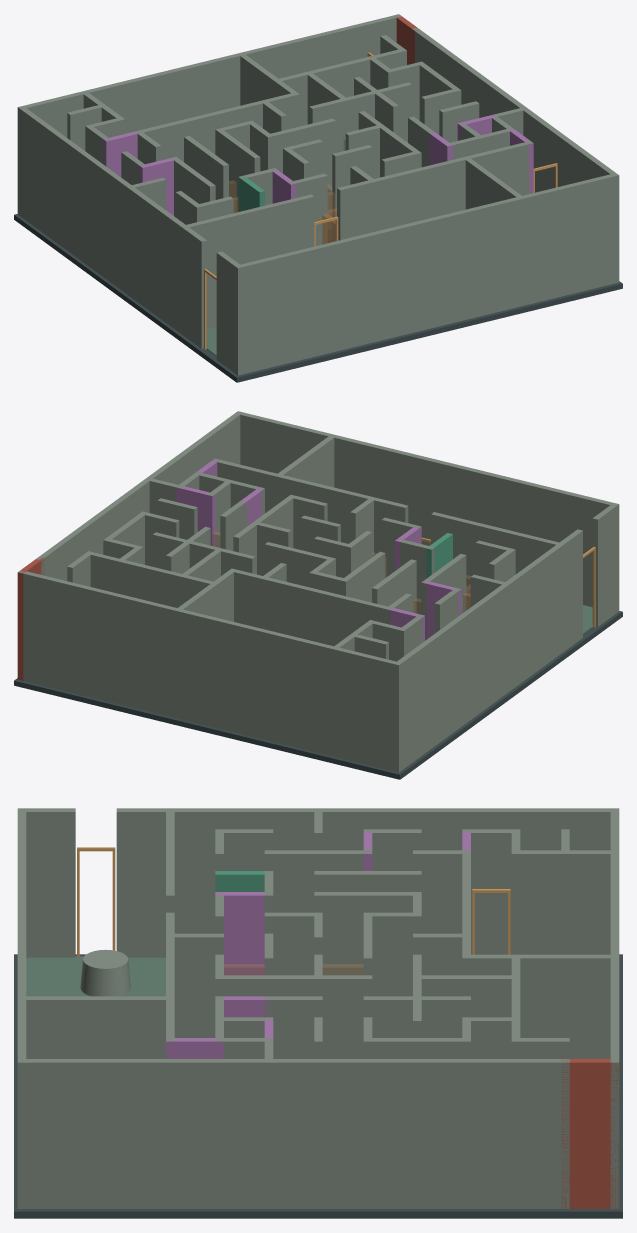
The model's file is Quy-Mu-REV-P-S0.glb.
The picture shows the model from 3 angles, top to bottom: view 1: azimuth 30°, elevation 25°; view 2: azimuth 150°, elevation 25°; view 3: azimuth 270°, elevation 25°; orthographic projection. The views are drawn at different scales.
Visible parts, largest first — view 1: object 24, object 25, object 1, object 23, object 50, object 22, object 59, object 5, object 8, object 4, object 26, object 44 (+38 smaller); view 2: object 1, object 25, object 24, object 5, object 50, object 59, object 23, object 4, object 22, object 26, object 39, object 8 (+39 smaller); view 3: object 50, object 25, object 30, object 39, object 44, object 59, object 26, C06, object 41, object 27, object 34, object 38 (+33 smaller).
Boxes of the visible parts, left/top/right/bottom form: object 24: left=234, top=174, right=619, bottom=375; object 25: left=17, top=106, right=207, bottom=348; object 1: left=17, top=14, right=401, bottom=216; object 23: left=337, top=141, right=533, bottom=240; object 50: left=412, top=27, right=619, bottom=283; object 22: left=180, top=194, right=314, bottom=335; object 59: left=14, top=214, right=622, bottom=382; object 5: left=135, top=92, right=299, bottom=161; object 8: left=309, top=82, right=411, bottom=152; object 4: left=273, top=48, right=406, bottom=126; object 26: left=216, top=251, right=243, bottom=374; object 44: left=465, top=156, right=525, bottom=306; object 1: left=18, top=570, right=402, bottom=772; object 25: left=393, top=529, right=582, bottom=771; object 24: left=235, top=411, right=619, bottom=611; object 5: left=229, top=568, right=392, bottom=646; object 50: left=36, top=412, right=242, bottom=580; object 59: left=14, top=611, right=622, bottom=779; object 23: left=212, top=458, right=408, bottom=555; object 4: left=87, top=551, right=218, bottom=617; object 22: left=431, top=512, right=564, bottom=652; object 26: left=592, top=504, right=619, bottom=626; object 39: left=174, top=569, right=236, bottom=718; object 8: left=152, top=532, right=255, bottom=575; object 50: left=17, top=1059, right=569, bottom=1208; object 25: left=116, top=808, right=619, bottom=957; object 30: left=511, top=850, right=619, bottom=954; object 39: left=463, top=954, right=618, bottom=1058; object 44: left=17, top=996, right=174, bottom=1058; object 59: left=14, top=954, right=622, bottom=1218; object 26: left=17, top=808, right=75, bottom=957; C06: left=561, top=1059, right=619, bottom=1208; object 41: left=215, top=975, right=372, bottom=1058; object 27: left=462, top=829, right=519, bottom=954; object 34: left=314, top=892, right=421, bottom=975; object 38: left=166, top=933, right=223, bottom=1037.
Size of the model in its own units: 11.3 by 3.16 by 11.3.
